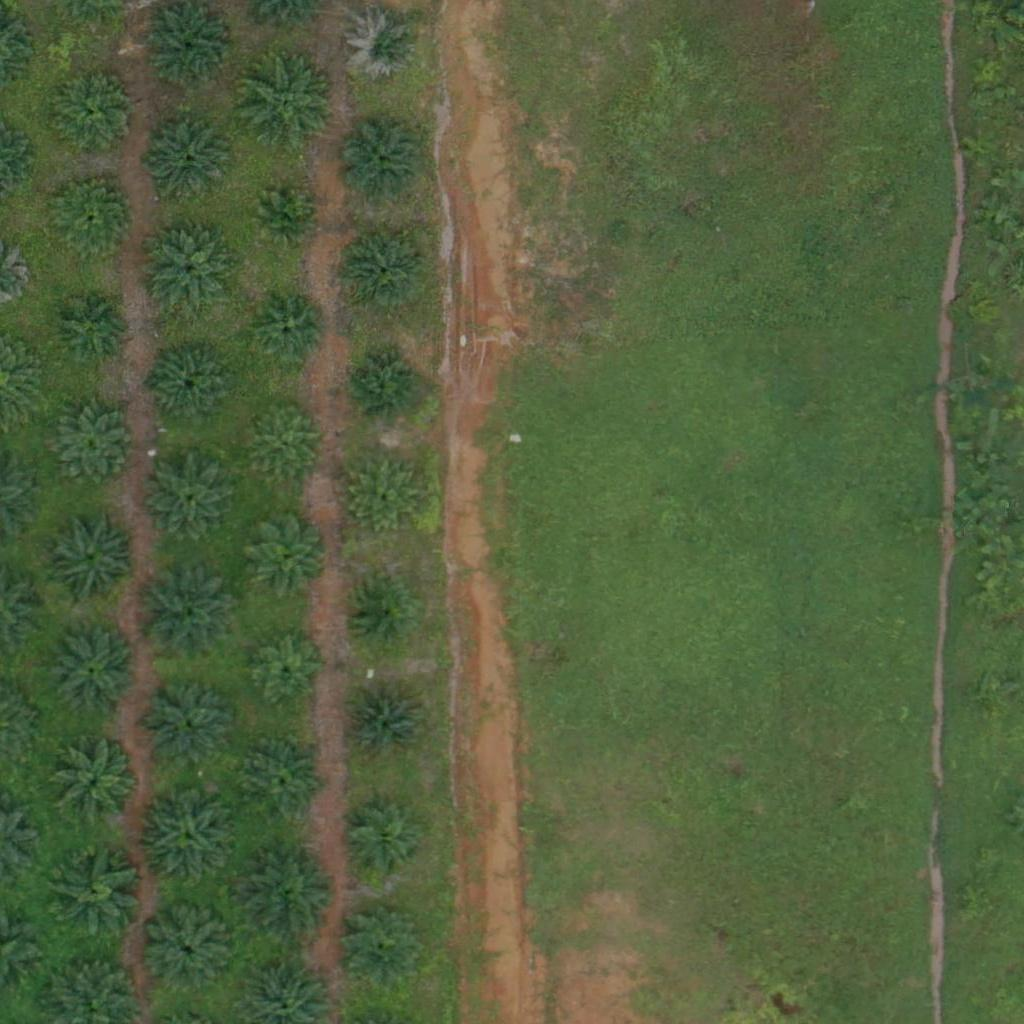Kelapa_Sawit: (134, 565, 234, 666), (39, 396, 139, 497), (39, 506, 139, 607), (240, 54, 340, 154), (237, 846, 337, 946), (137, 785, 237, 885), (43, 842, 143, 942), (47, 176, 135, 265), (149, 343, 237, 432), (145, 908, 233, 997), (48, 283, 136, 371), (339, 801, 427, 889), (50, 74, 138, 162), (338, 118, 426, 206), (339, 229, 427, 317), (242, 738, 330, 826), (144, 457, 232, 545), (143, 682, 231, 770), (240, 510, 327, 598), (343, 682, 430, 770), (146, 3, 233, 91), (145, 119, 232, 207), (146, 229, 233, 317), (48, 630, 135, 718), (51, 741, 138, 829), (339, 902, 426, 990), (348, 9, 423, 85), (253, 294, 328, 369), (251, 636, 326, 711), (343, 457, 418, 532), (350, 349, 425, 424), (245, 405, 320, 480), (348, 580, 411, 643), (255, 189, 318, 252)
